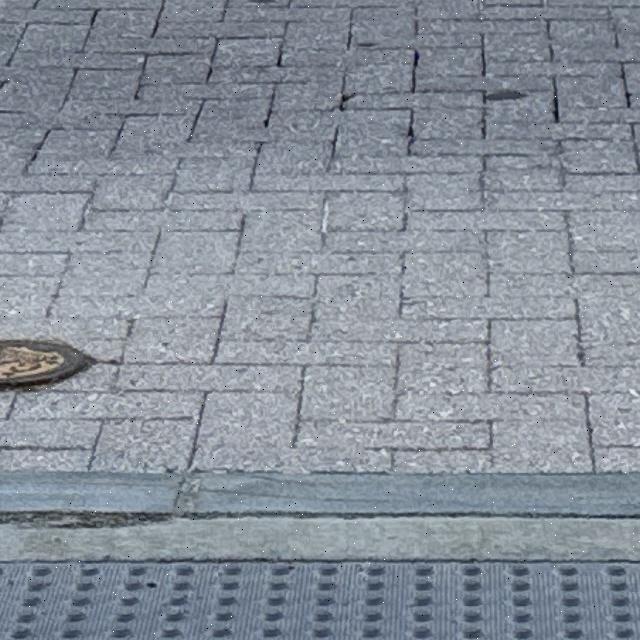curb: (0, 517, 639, 560)
